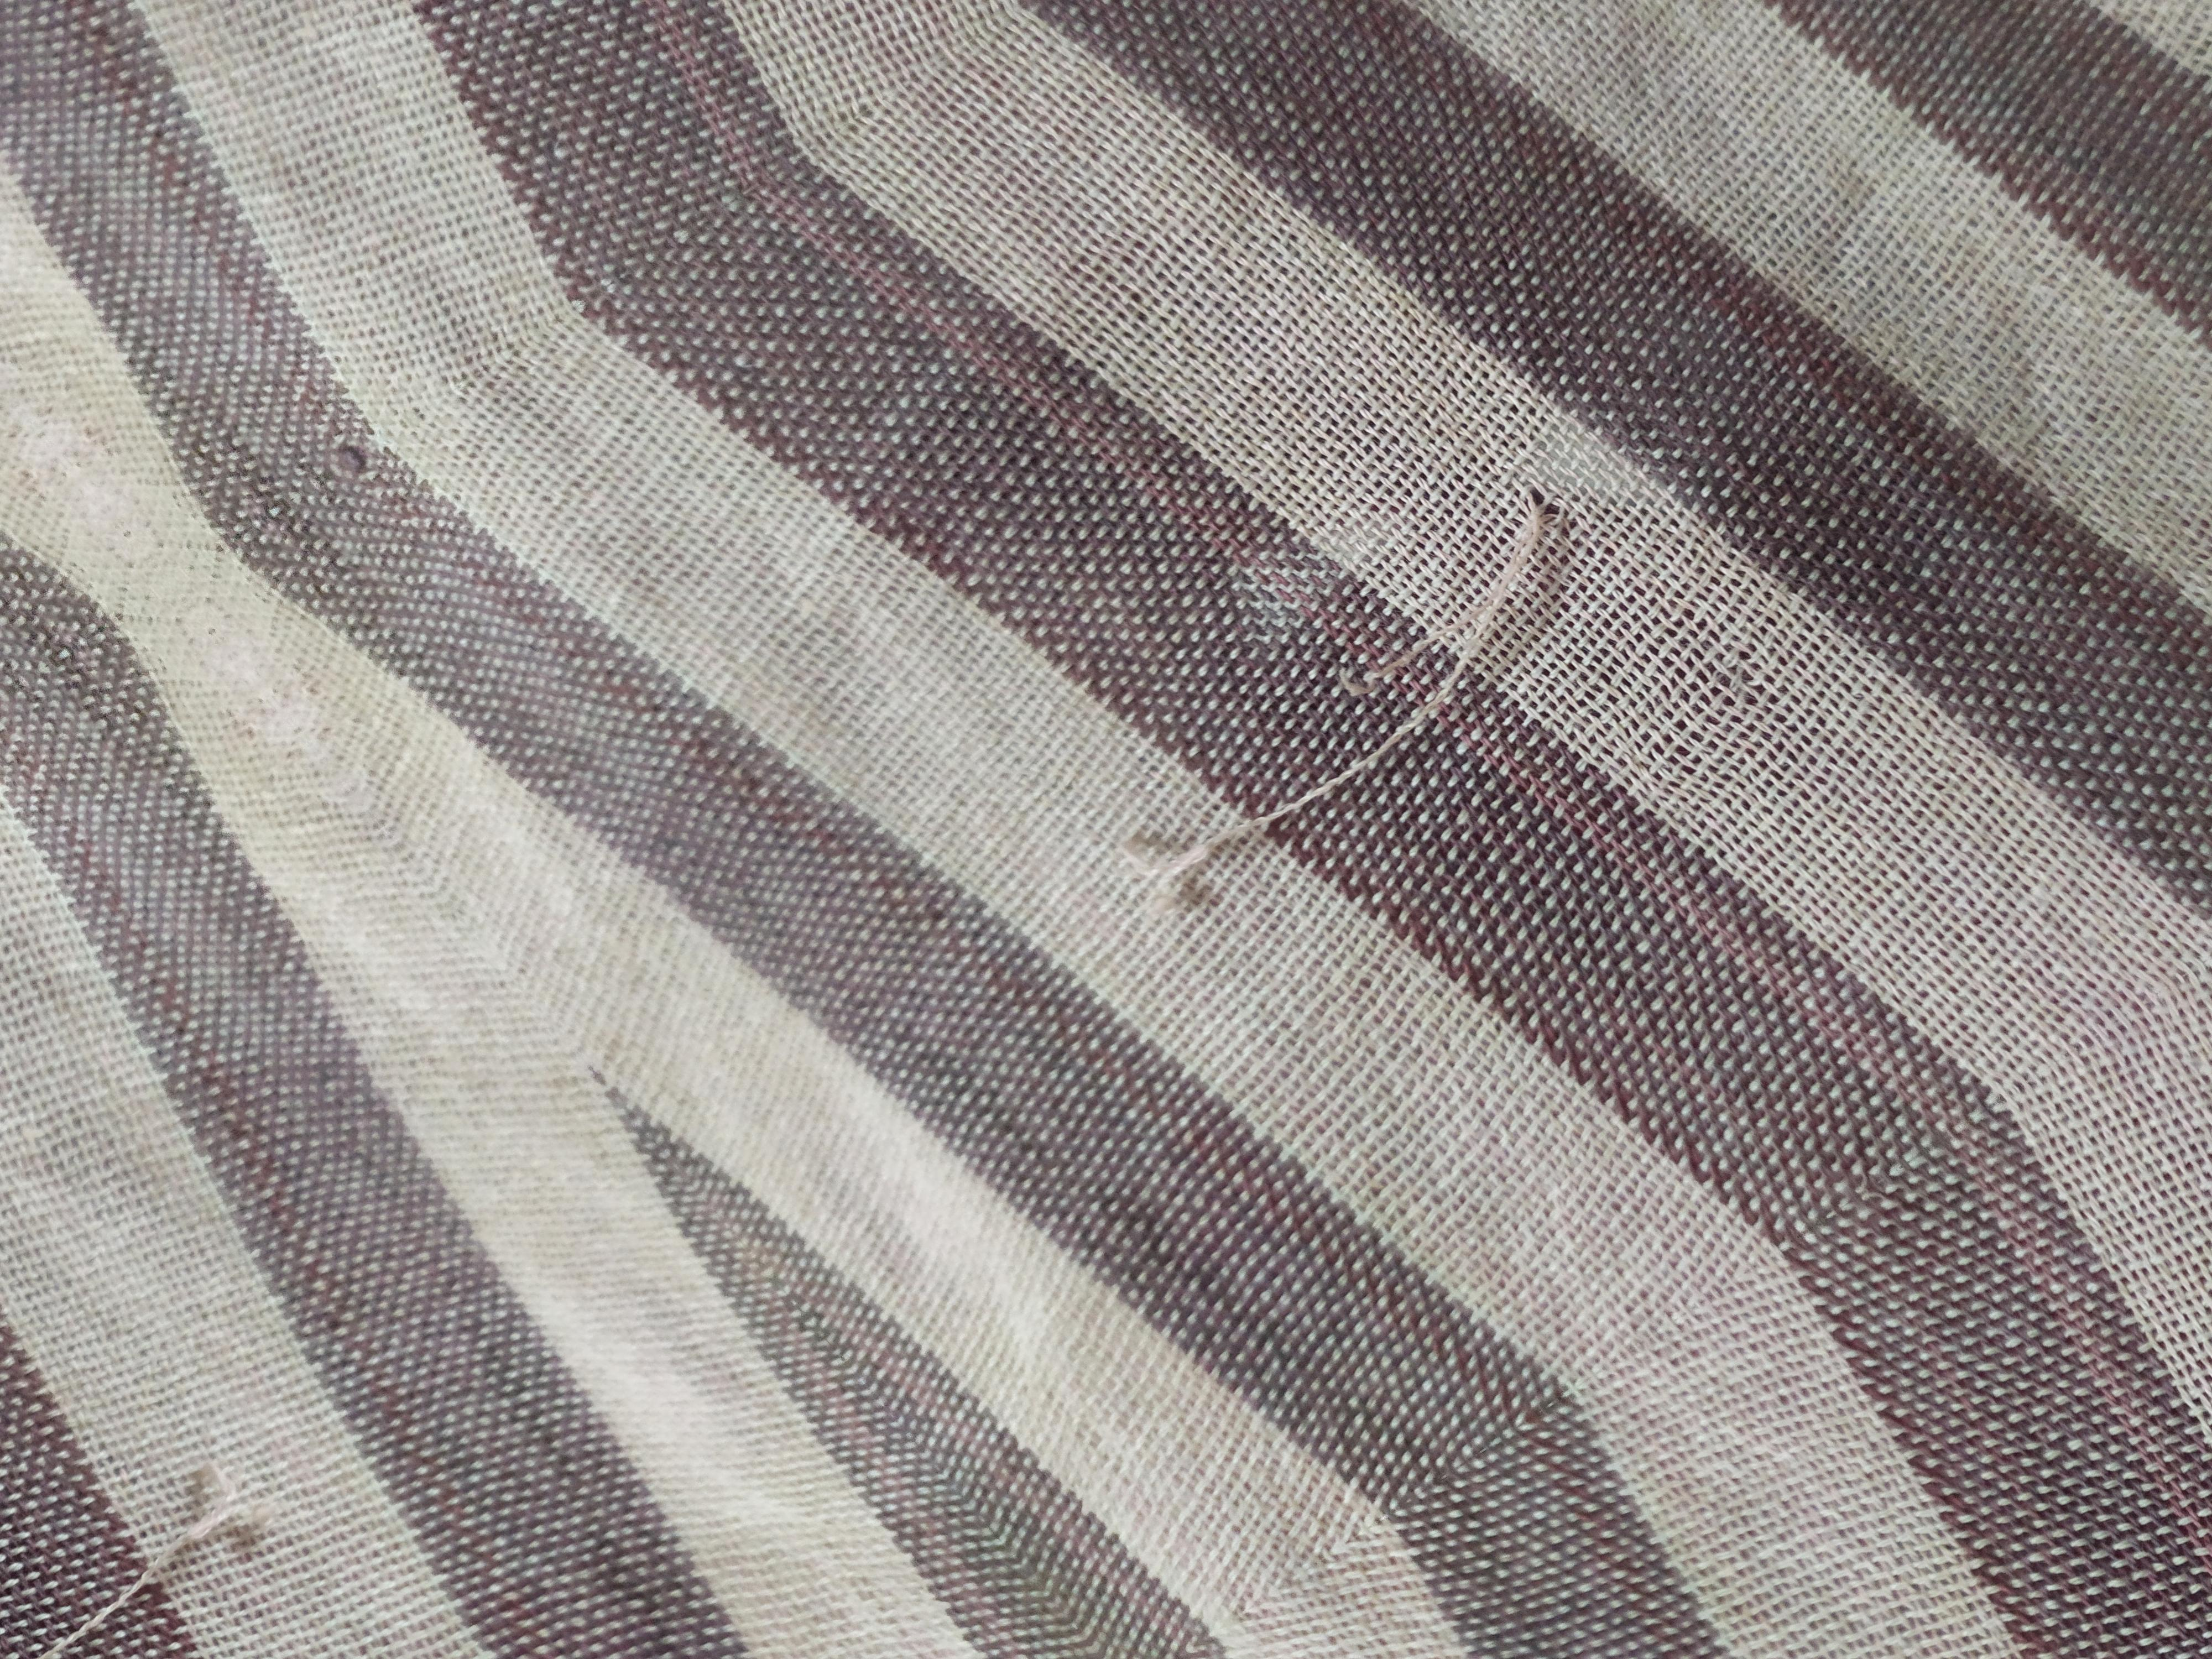snag: (1066, 462, 1571, 997)
